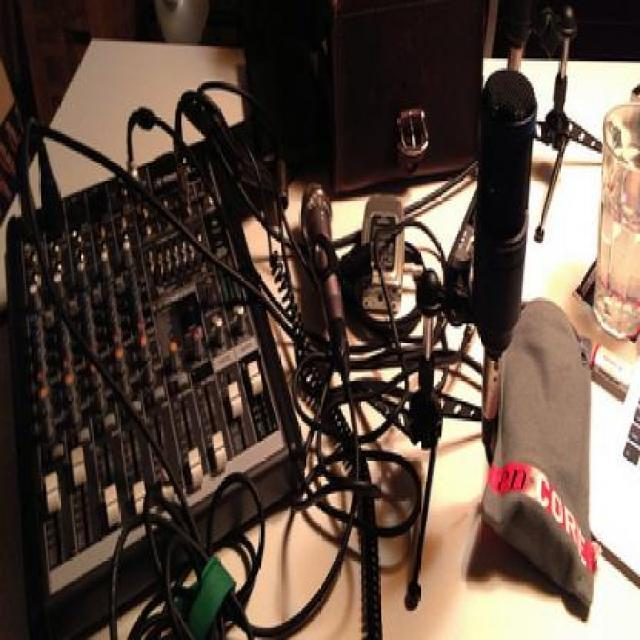garbage: (6, 114, 520, 581)
